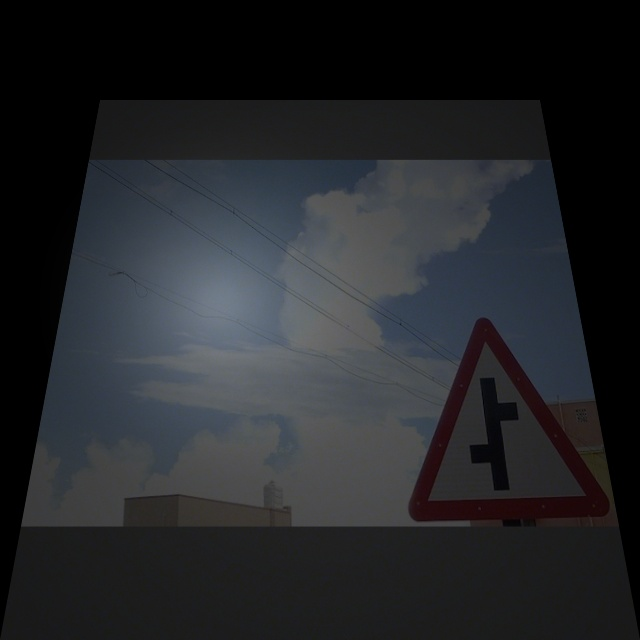Staggered_Intersection: (386, 318, 607, 513)
